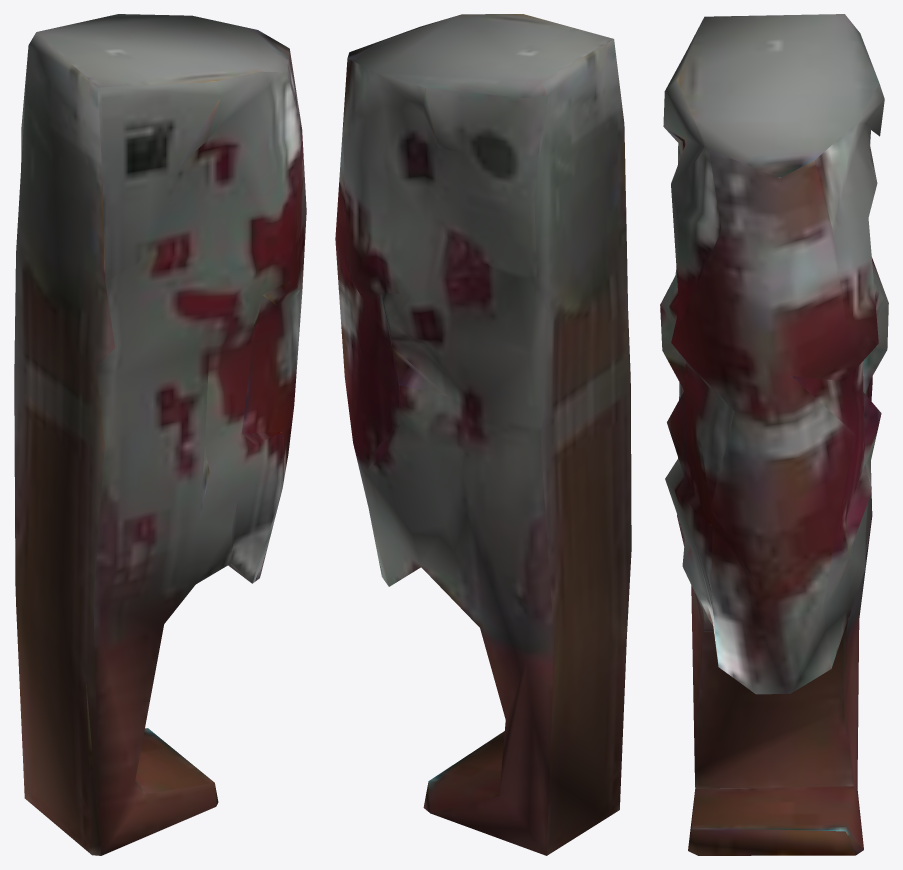
The model's file is sickle.glb.
3 renders of one model, left to right at view 1: azimuth 30°, elevation 25°; view 2: azimuth 150°, elevation 25°; view 3: azimuth 270°, elevation 25°, orthographic. The views are drawn at different scales.
Parts seen in each view (by area): view 1: sickle; view 2: sickle; view 3: sickle.
Boxes of the visible parts, bbox=[...] form: sickle: bbox=[14, 14, 306, 855]; sickle: bbox=[335, 14, 631, 855]; sickle: bbox=[660, 14, 888, 855].
Size of the model in its own units: 0.0889 by 0.2613 by 0.0667.
1 material, 1 textured.
